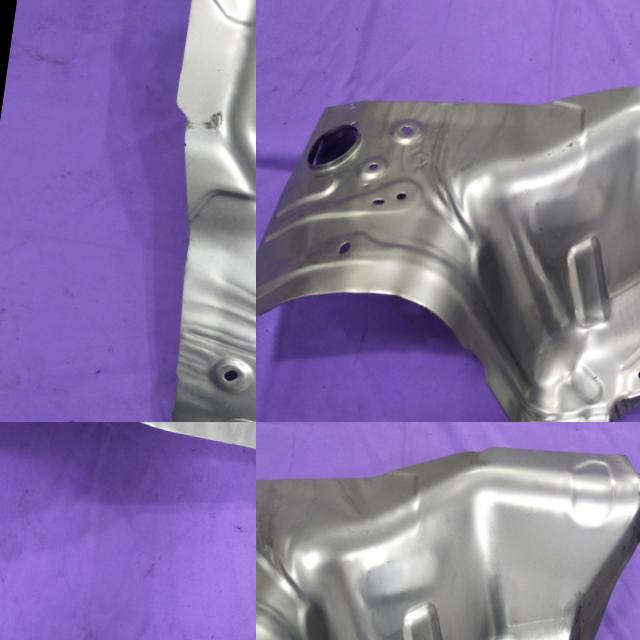Defect: (453, 323, 503, 398)
Healthy: (118, 0, 256, 422), (0, 422, 256, 477)
